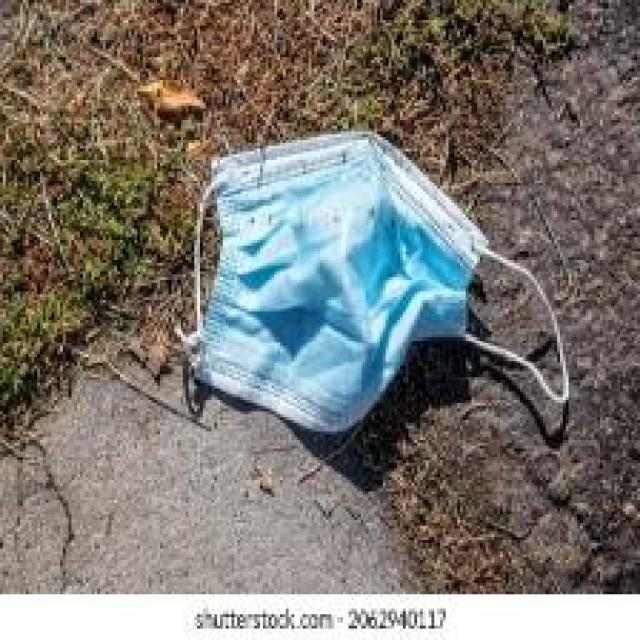Mask: (146, 148, 577, 504)
